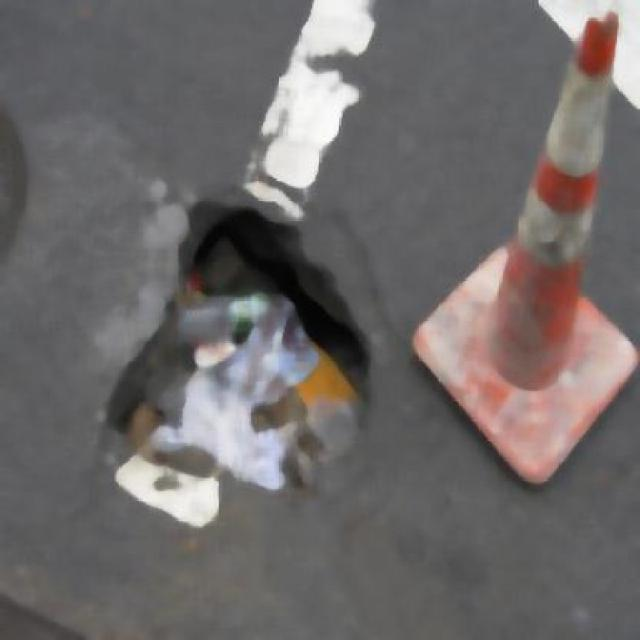pothole: (107, 202, 360, 533)
